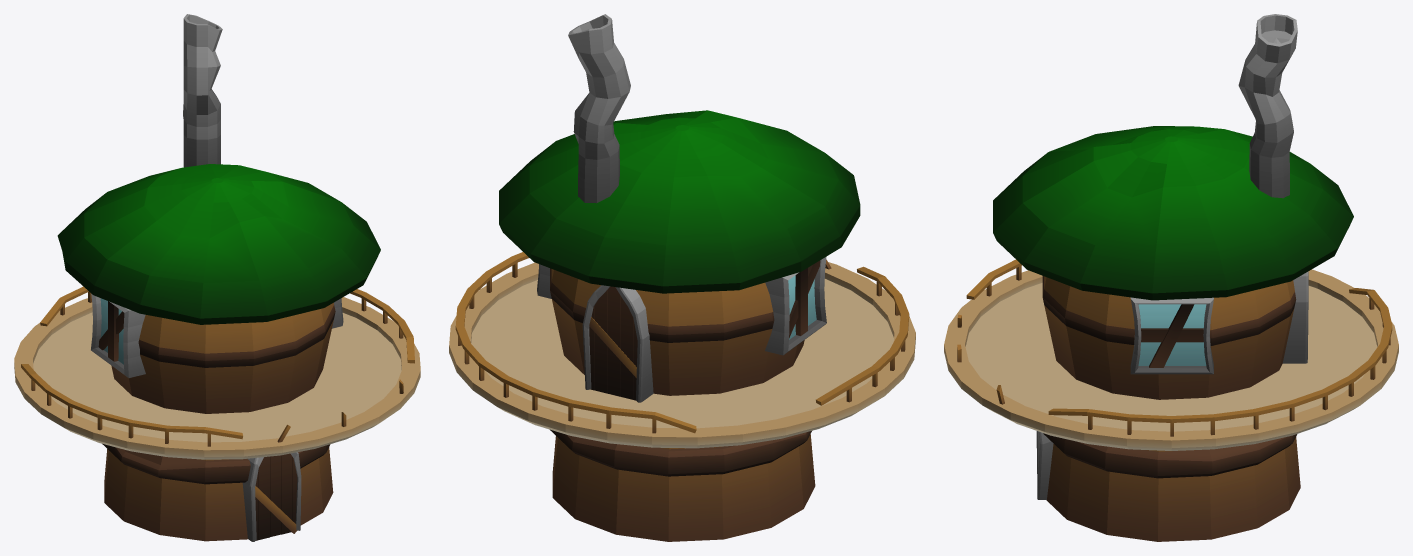
File: CasaSeda_elementosDecorativos_T.fbx
3 views of the same model, side by side, from view 1: azimuth 30°, elevation 25°; view 2: azimuth 150°, elevation 25°; view 3: azimuth 270°, elevation 25° (orthographic). The views are drawn at different scales.
Parts seen in each view (by area): view 1: Casa 2.002; view 2: Casa 2.002; view 3: Casa 2.002.
Boxes of the visible parts, box(x1,y1,x2,y2) form: Casa 2.002: box(14, 14, 420, 541); Casa 2.002: box(449, 14, 915, 541); Casa 2.002: box(944, 14, 1398, 541).
Bounding box in the file's own units: 388 × 456 × 388.
